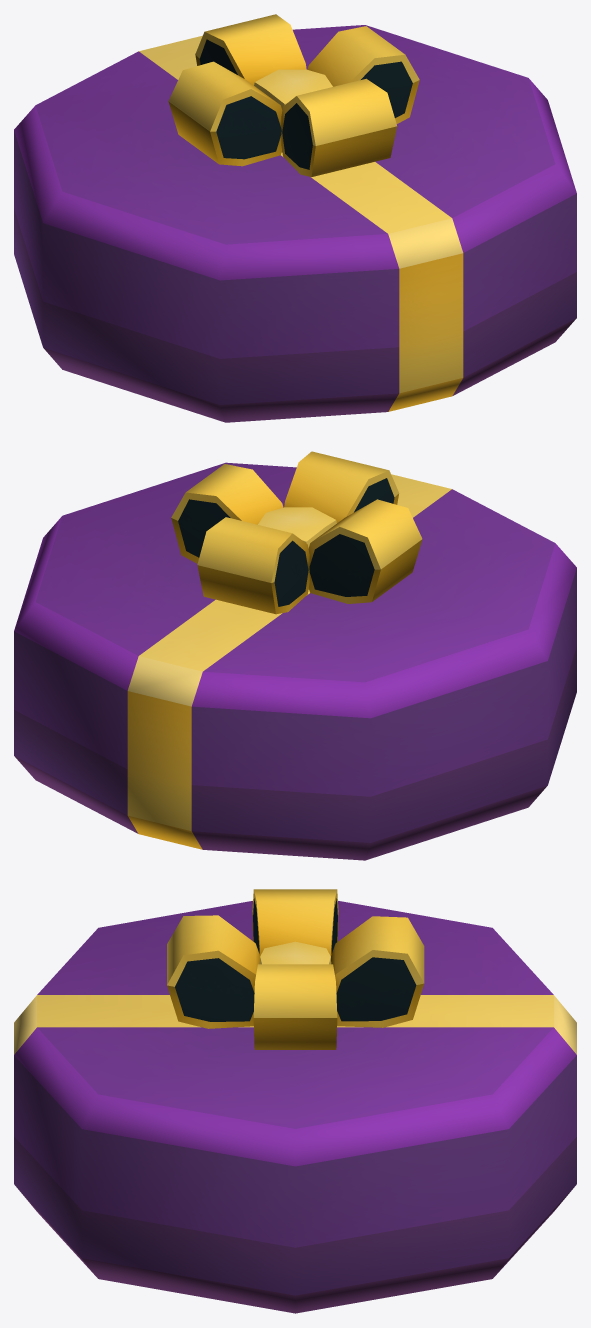
The model's file is presi_round_1_purple.fbx.
The picture shows the model from 3 angles, top to bottom: view 1: azimuth 30°, elevation 25°; view 2: azimuth 150°, elevation 25°; view 3: azimuth 270°, elevation 25°; orthographic projection. The views are drawn at different scales.
Visible parts, largest first — view 1: presi_round_1_purple; view 2: presi_round_1_purple; view 3: presi_round_1_purple.
Part boxes in pixels (x1,y1,x2,y2): presi_round_1_purple: (14,14,576,422); presi_round_1_purple: (14,451,576,860); presi_round_1_purple: (14,889,576,1313).
Bounding box in the file's own units: 162 × 77.63 × 151.
Materials: 1 (1 with a texture image).
